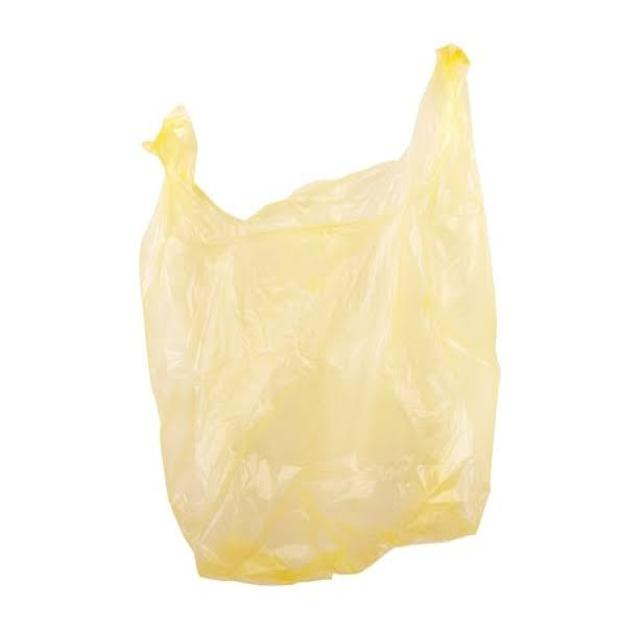residual: (123, 35, 510, 597)
